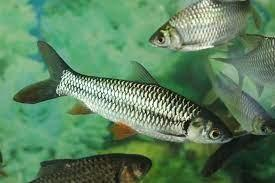Grass Carp: (149, 0, 267, 56)
Silver Barb: (13, 40, 238, 149)
